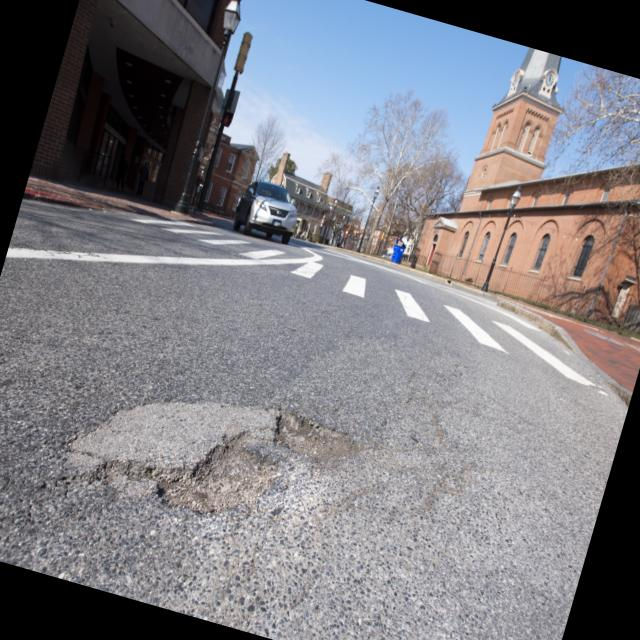Potholes: (106, 348, 390, 599)
